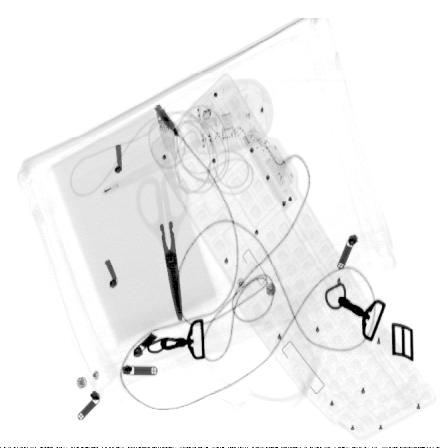Scissors: (136, 169, 191, 322)
